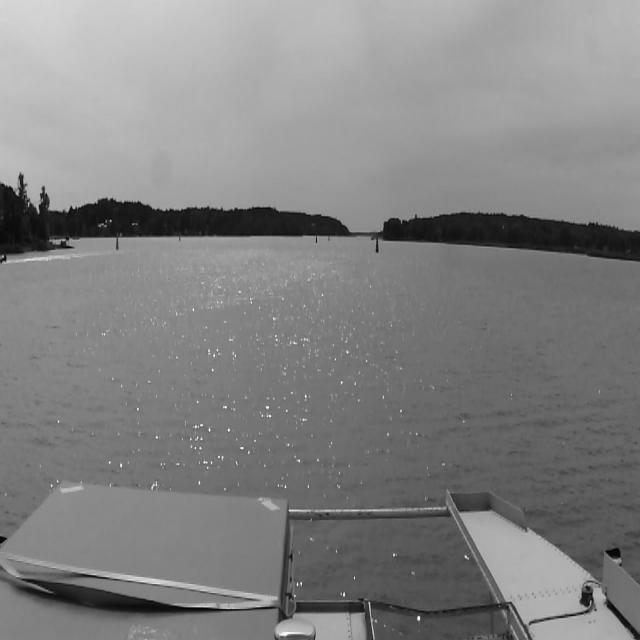buoy: (314, 228, 318, 246), (326, 230, 331, 243), (376, 238, 378, 252), (116, 236, 118, 249)
